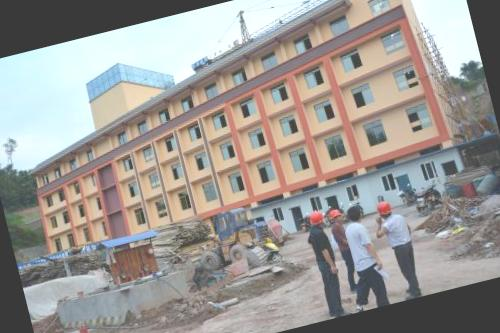no_helmet: (342, 200, 369, 227)
